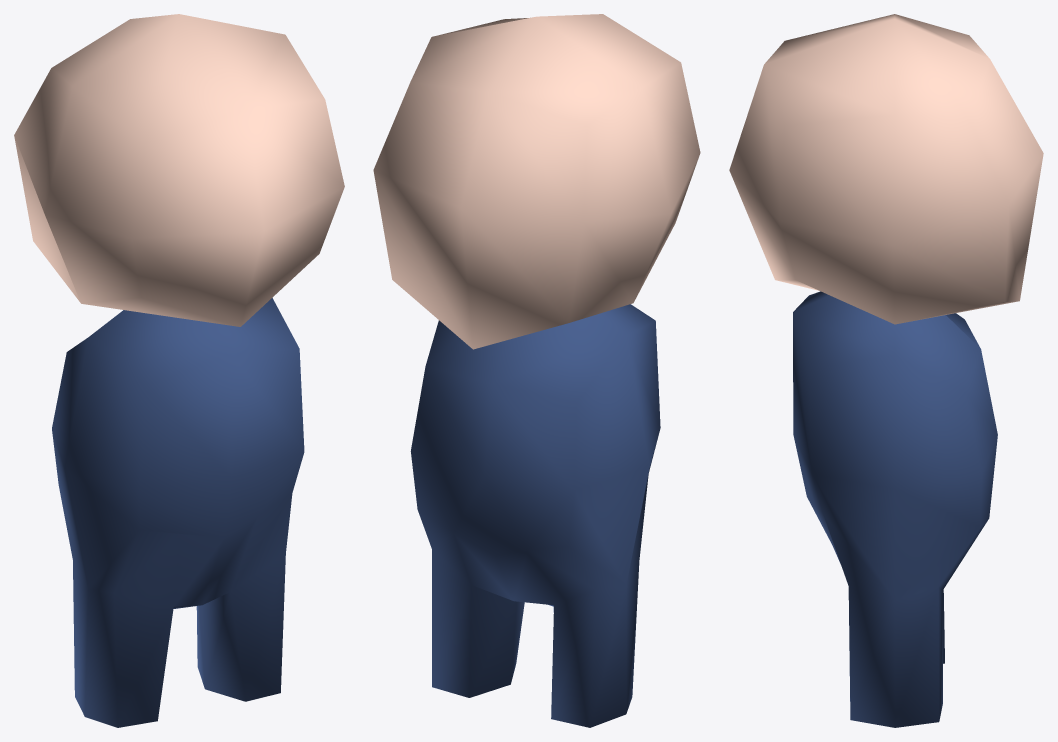
File: chibi_human.fbx
3 renders of one model, left to right at view 1: azimuth 30°, elevation 25°; view 2: azimuth 150°, elevation 25°; view 3: azimuth 270°, elevation 25°, orthographic. The views are drawn at different scales.
Visible parts, largest first — view 1: Cube.001, Cube; view 2: Cube, Cube.001; view 3: Cube, Cube.001.
Boxes of the visible parts, x1,y1,x2,y2 form: Cube.001: (52, 298, 304, 727); Cube: (14, 14, 344, 326); Cube: (373, 14, 700, 349); Cube.001: (410, 304, 660, 727); Cube: (729, 14, 1043, 324); Cube.001: (793, 291, 997, 727).
Size of the model in its own units: 45.7 by 110 by 47.23.
